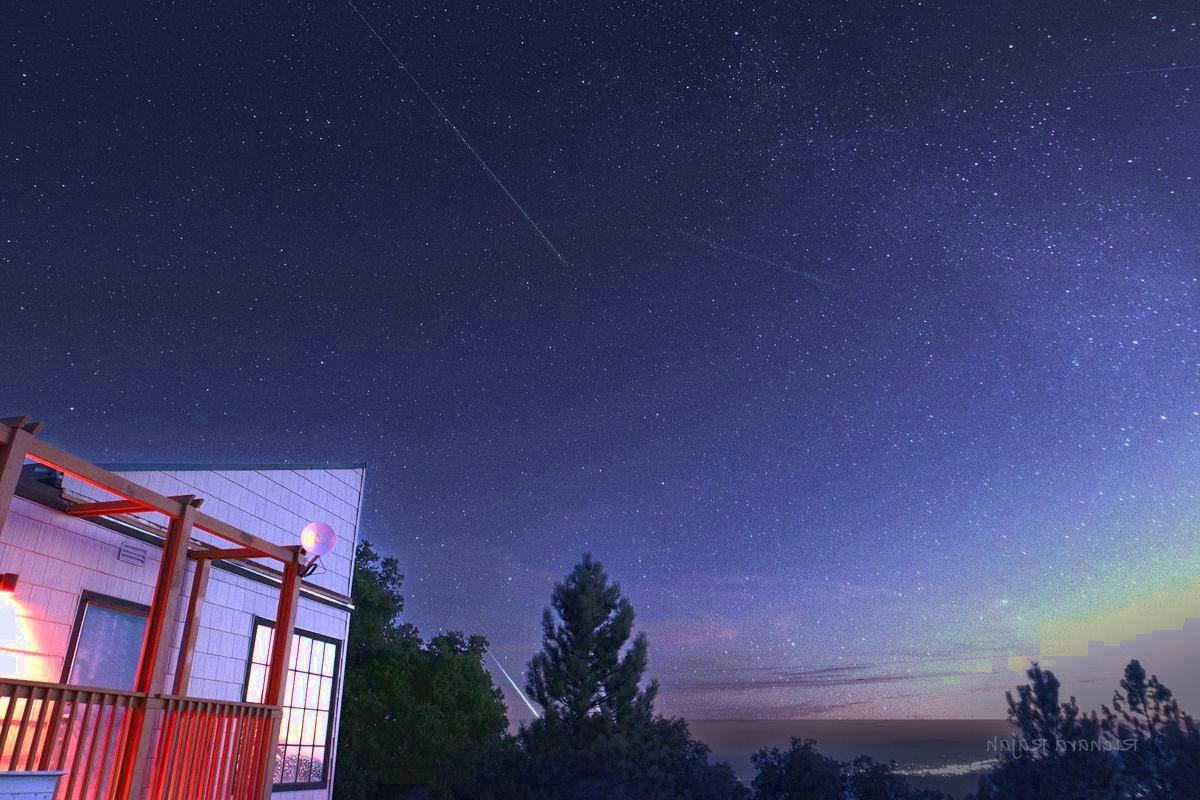meteorite: (449, 127, 583, 277), (472, 621, 553, 727)
